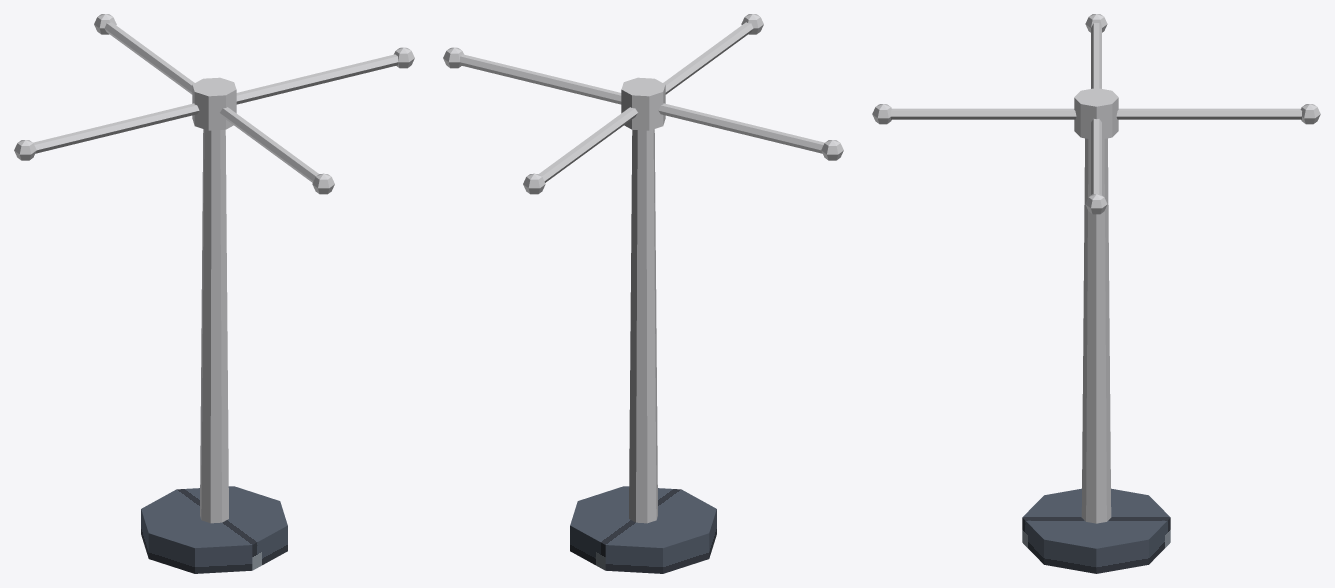
Rendered from ant_omni.glb.
The picture shows the model from 3 angles, left to right: view 1: azimuth 30°, elevation 25°; view 2: azimuth 150°, elevation 25°; view 3: azimuth 270°, elevation 25°; orthographic projection. The views are drawn at different scales.
Parts seen in each view (by area): view 1: ant_omni; view 2: ant_omni; view 3: ant_omni.
Boxes of the visible parts, x1,y1,x2,y2 form: ant_omni: (14,14,414,573); ant_omni: (443,14,843,573); ant_omni: (872,14,1320,573).
Bounding box in the file's own units: 0.4808 × 0.53 × 0.484.
2 materials, 1 textured.
